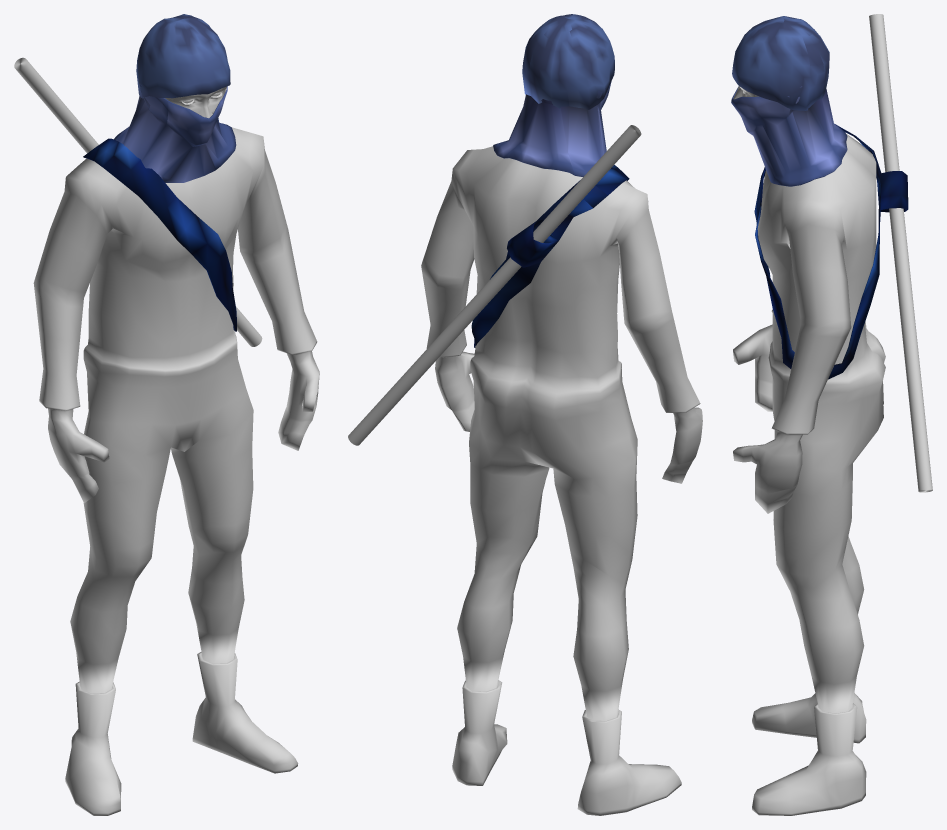
Rendered from ninja character.fbx.
The picture shows the model from 3 angles, left to right: view 1: azimuth 30°, elevation 25°; view 2: azimuth 150°, elevation 25°; view 3: azimuth 270°, elevation 25°; orthographic projection. The views are drawn at different scales.
Visible parts, largest first — view 1: body, mask, hat, belt, sword; view 2: body, hat, mask, sword, belt; view 3: body, hat, mask, sword, belt.
Boxes of the visible parts, x1,y1,x2,y2 form: body: (33,86,319,815); mask: (113,85,236,182); hat: (136,14,230,98); belt: (83,138,236,331); sword: (14,57,262,346); body: (421,146,702,815); hat: (522,14,614,110); mask: (493,81,611,176); sword: (348,125,641,445); belt: (471,165,629,347); body: (733,86,885,815); hat: (732,16,829,110); mask: (731,86,847,186); sword: (869,14,932,492); belt: (754,124,908,379).
Bounding box in the file's own units: 265 × 676 × 166.
